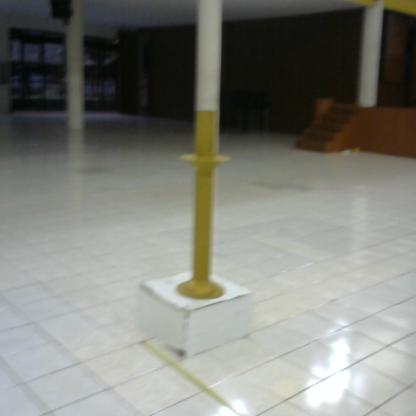pole: (174, 105, 237, 308)
